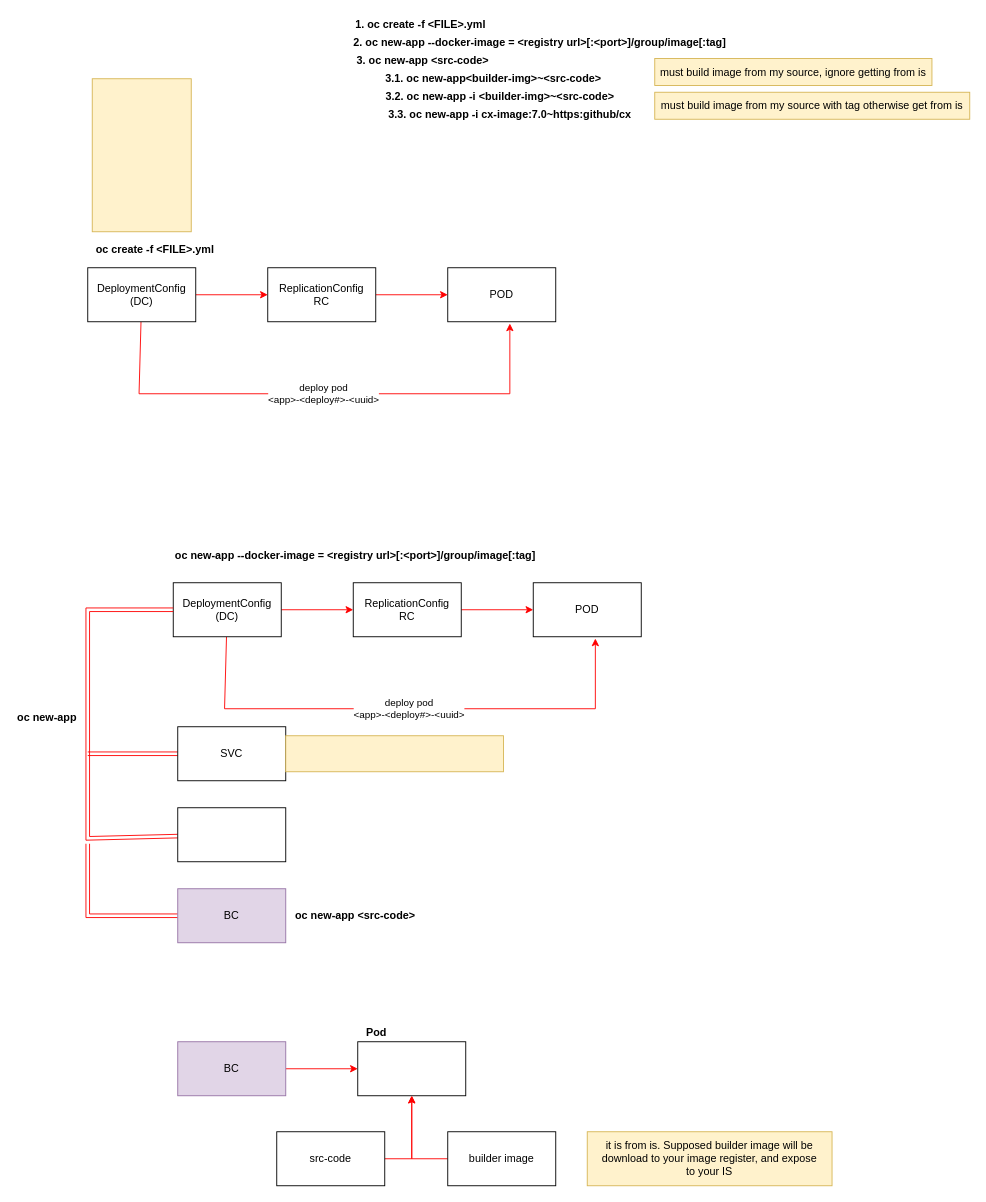
Image size: 986x1202. Some labels were removed from this diagram. The shapes that lost their labels are listed below. From the top down, each one's centre as x and y in pixels, then its label:
At point (141, 155): "Resource Type: -dc -rc -pod -svc -route -is -pvc pv -bc -secret".
At point (394, 753): "If in the docker file, you have EXPOSE <PORT> then only SVC will be created".
At point (231, 834): "IS".
At point (411, 1068): "build <build #>".
